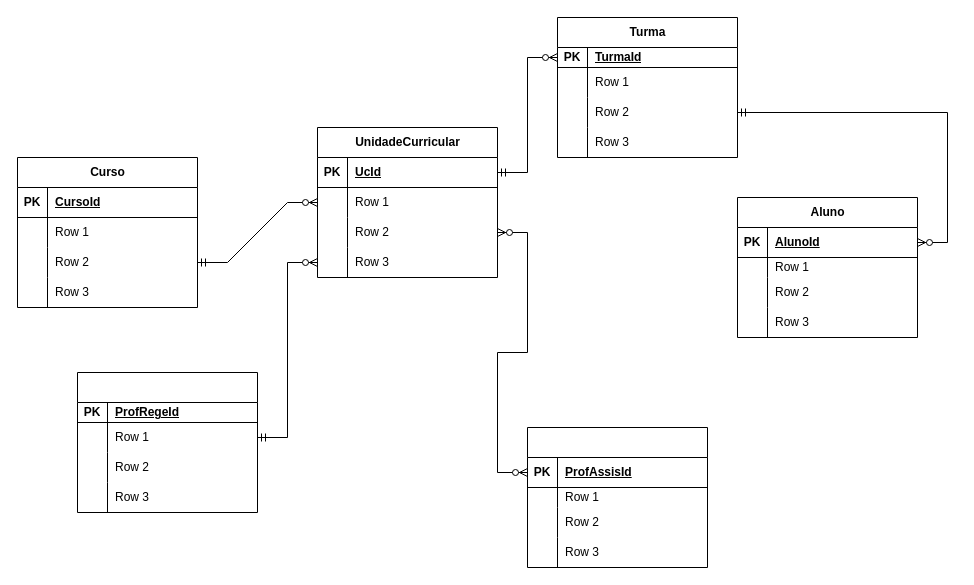
Image size: 974x585. Some labels were removed from this diagram. Each missing label, with the box of its shape:
ProfessorAssistente: (526, 426, 708, 568)
ProfessorRegente: (76, 372, 258, 512)
